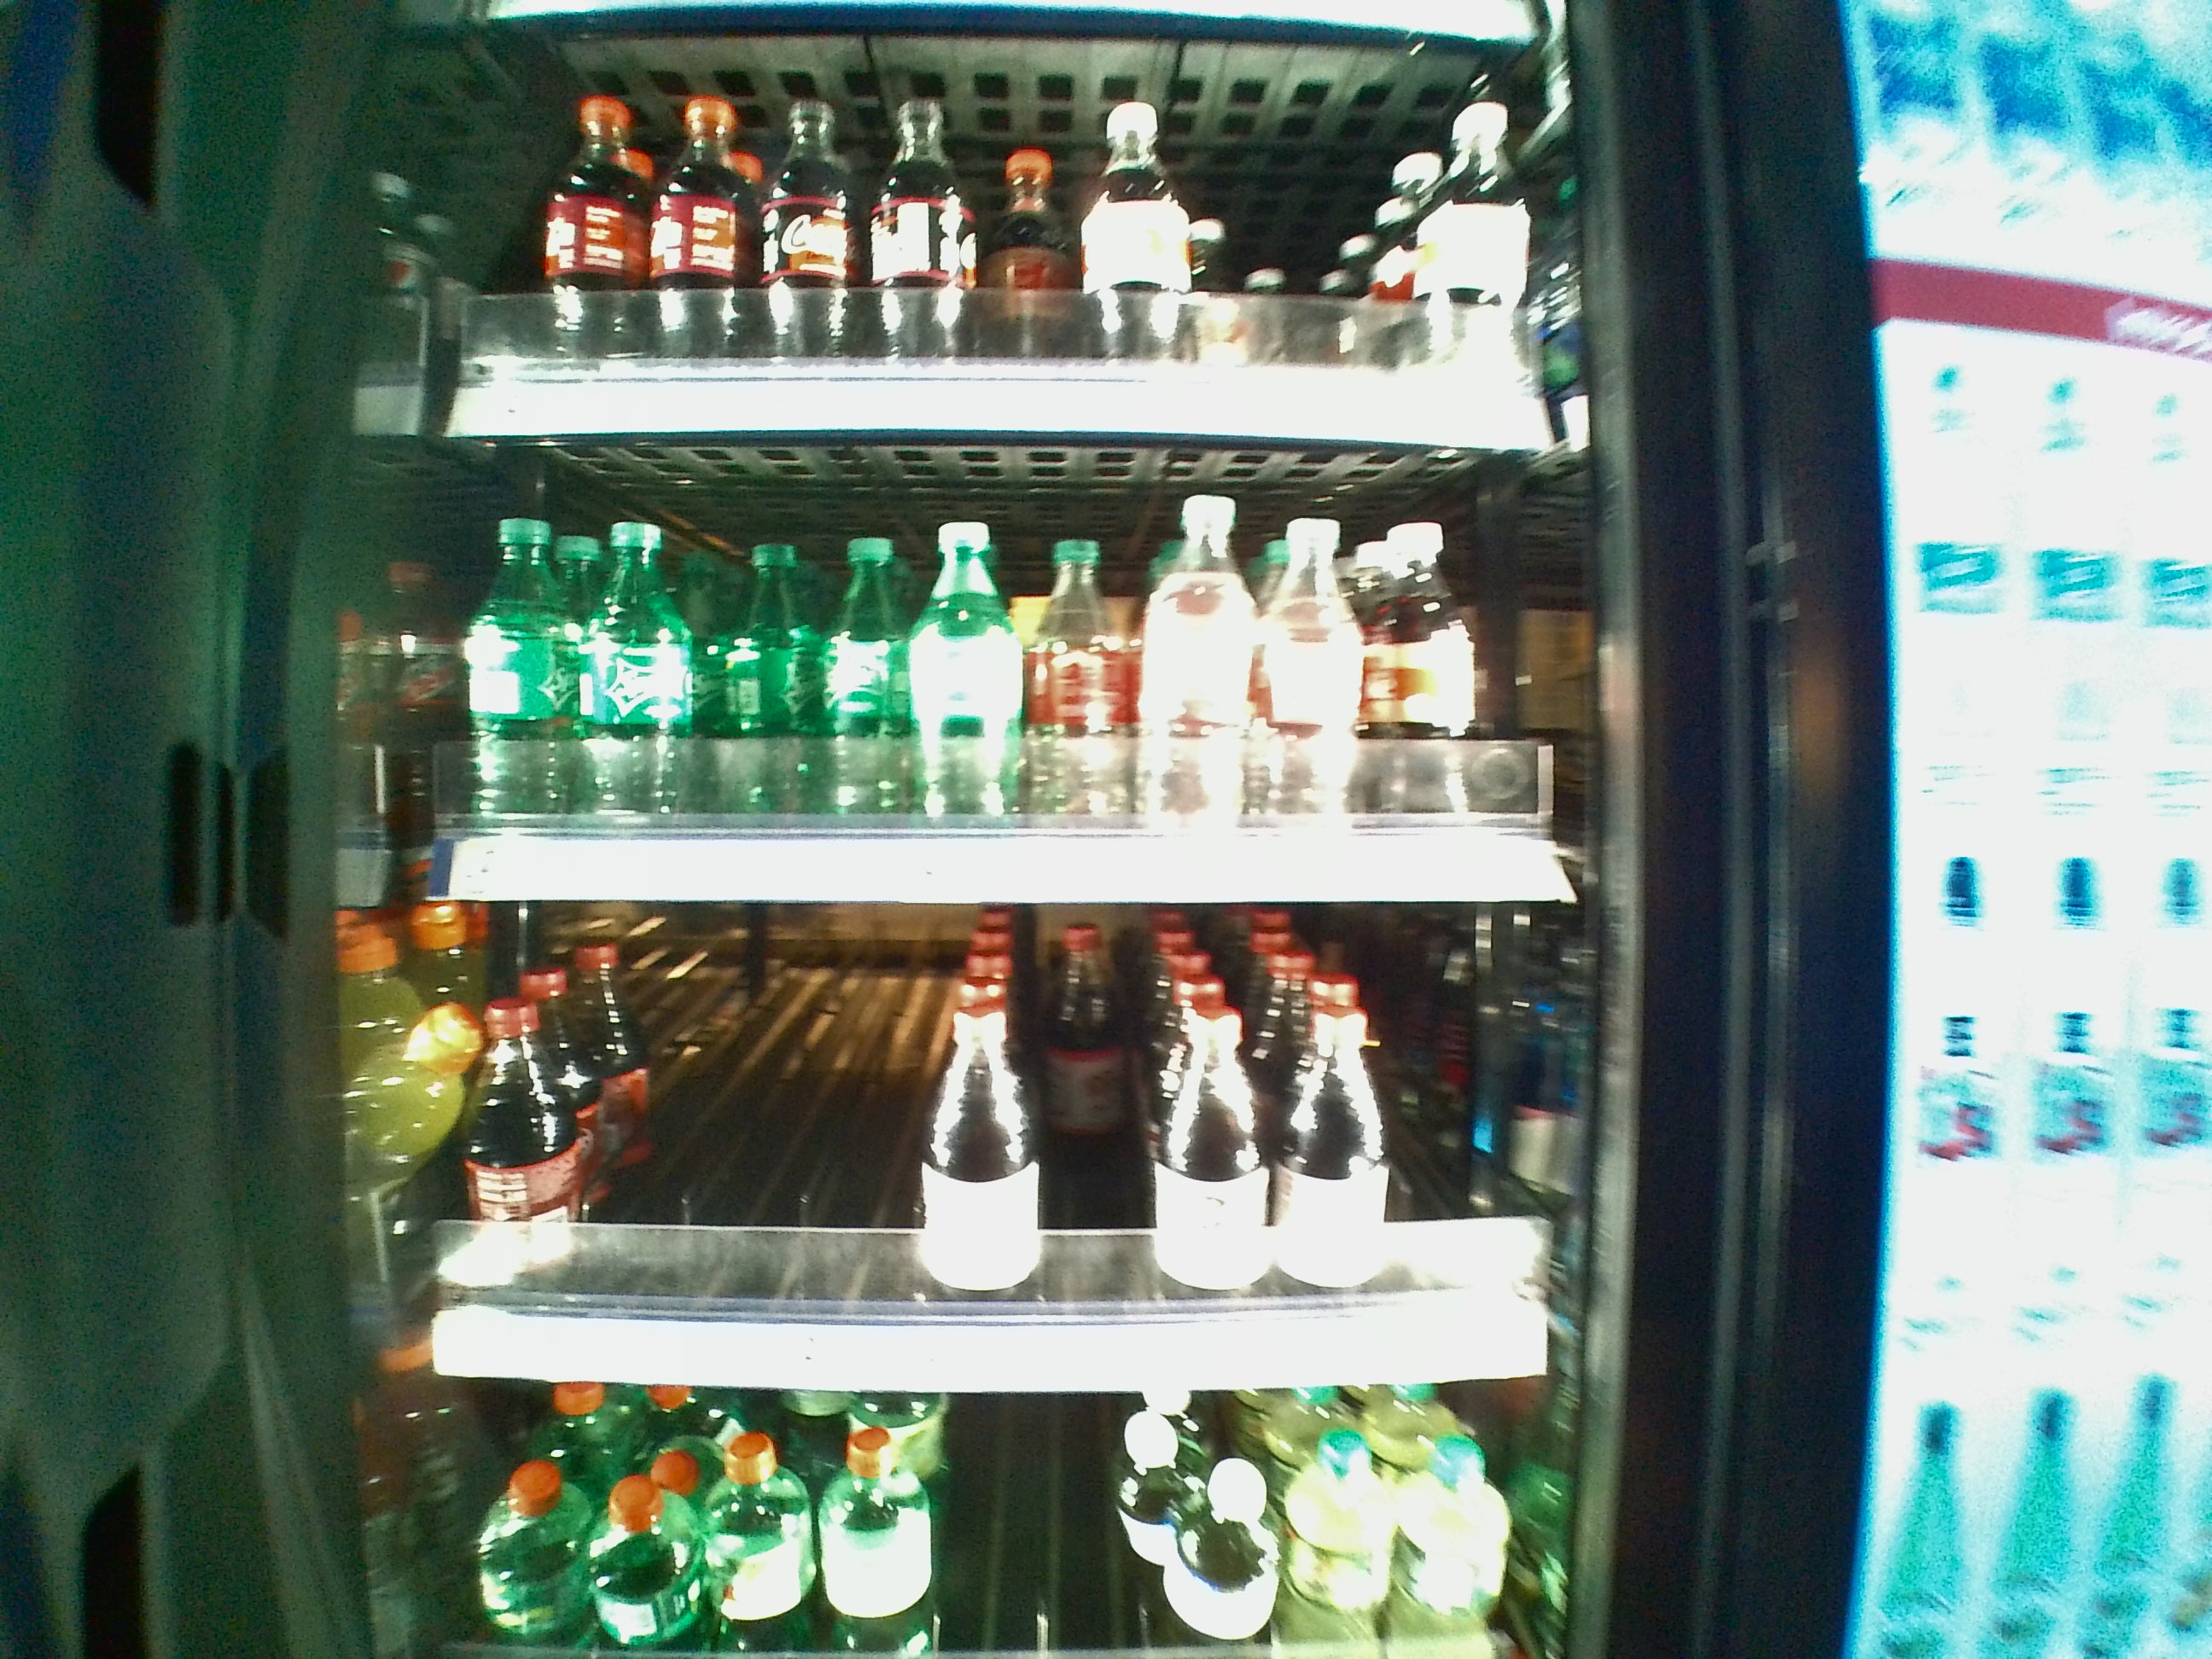shelf: (425, 904, 1594, 1396), (427, 441, 1590, 910)
